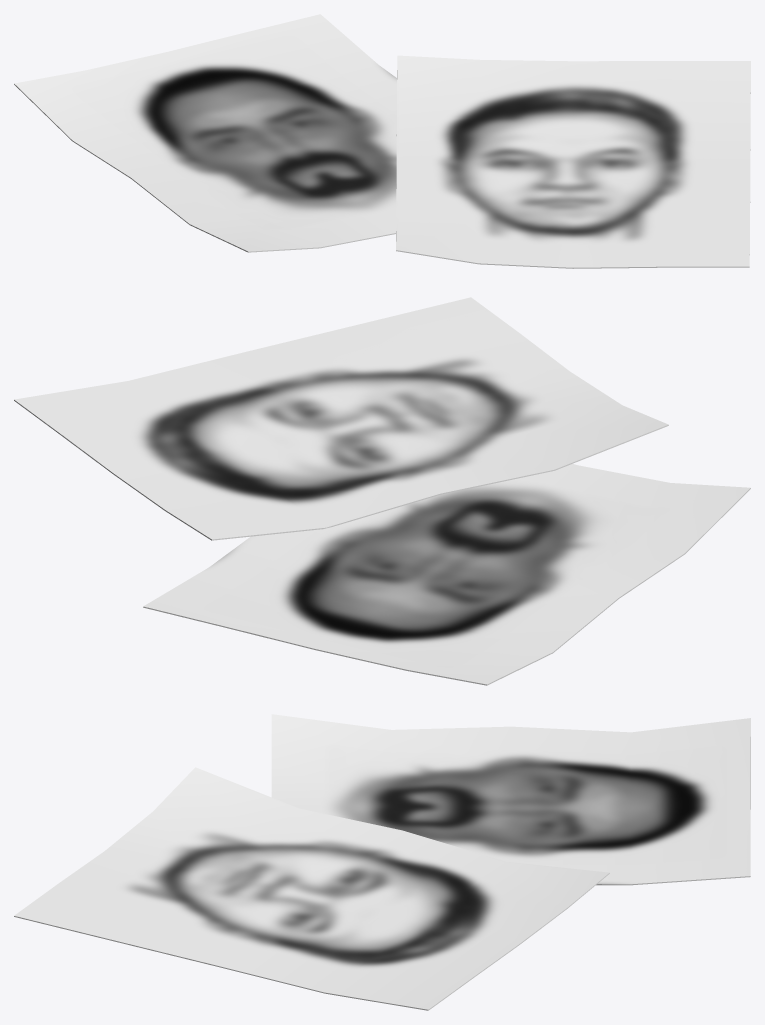
Rendered from Photos.FBX.
3 views of the same model, one above another, from view 1: azimuth 30°, elevation 25°; view 2: azimuth 150°, elevation 25°; view 3: azimuth 270°, elevation 25° (orthographic). The views are drawn at different scales.
Visible parts, largest first — view 1: photo 2, photo 1; view 2: photo 2, photo 1; view 3: photo 2, photo 1.
Part boxes in pixels (x1,y1,x2,y2): photo 2: (396,55,750,268); photo 1: (14,14,396,252); photo 2: (14,297,668,540); photo 1: (143,464,750,685); photo 2: (14,767,609,1010); photo 1: (271,714,750,885).
Size of the model in its own units: 30.93 by 1.05 by 33.35.
Materials: 1 (1 with a texture image).
